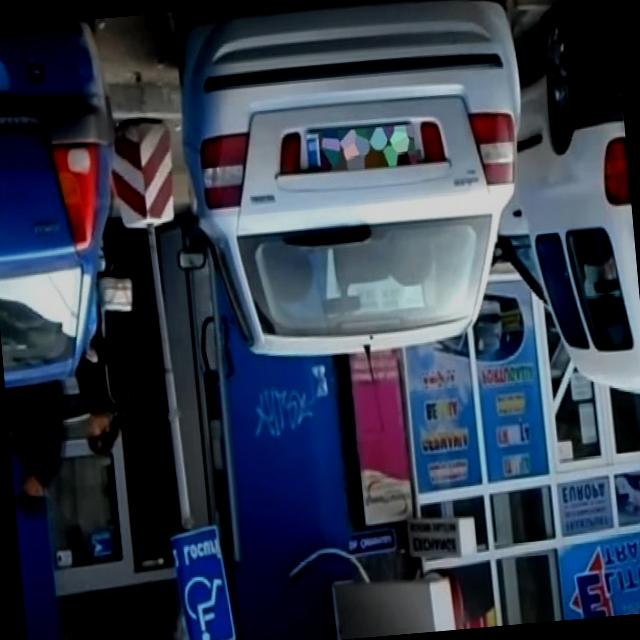symbol_of_access: (178, 564, 232, 640)
